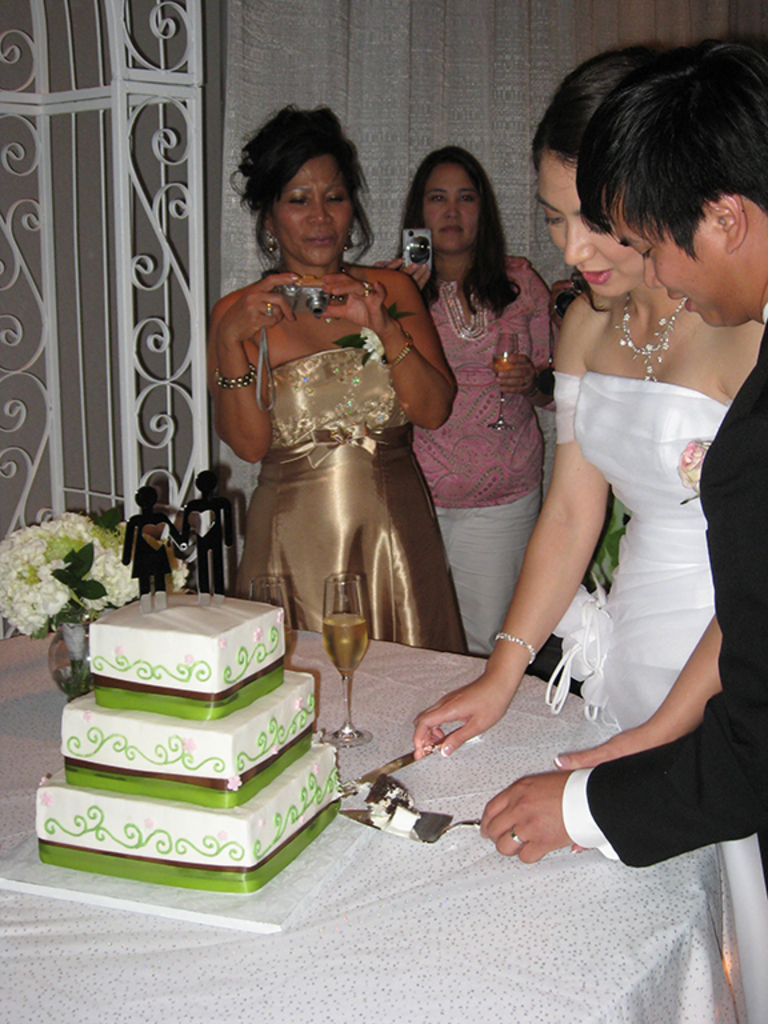cake: (29, 588, 344, 893)
